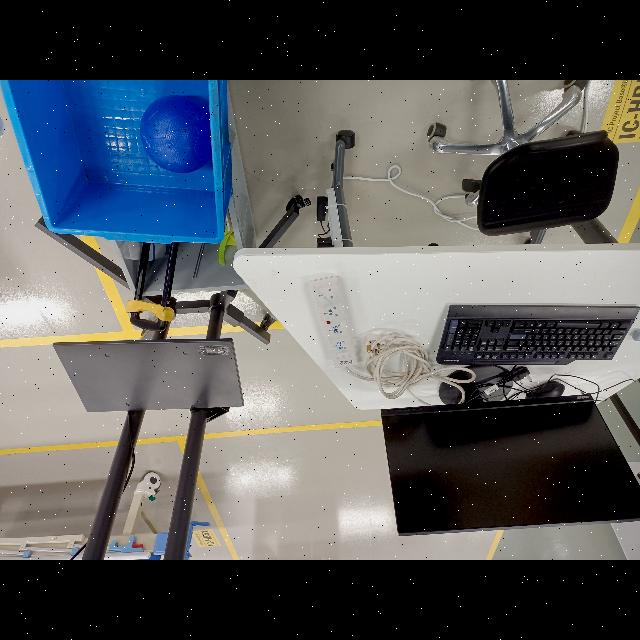B: (135, 92, 215, 174)
